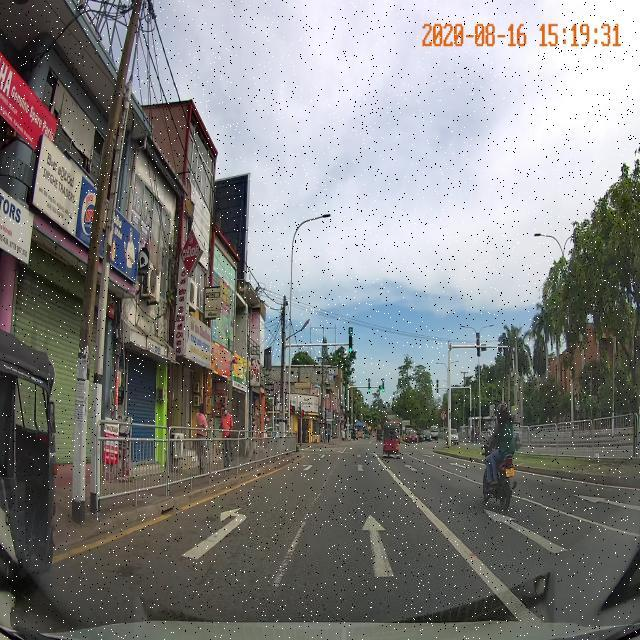forward: (248, 499, 542, 619)
